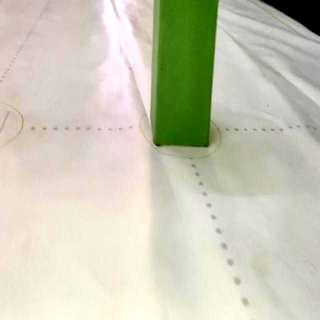greenbox: (152, 0, 218, 146)
